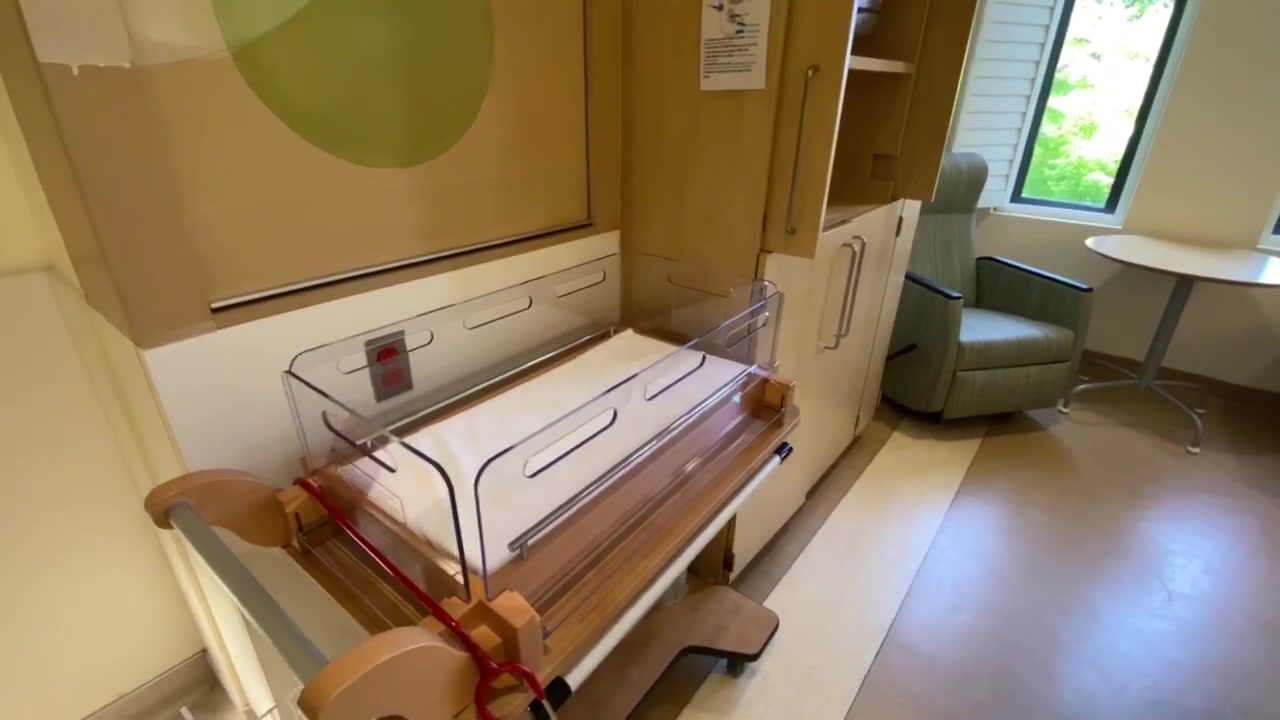handle: (785, 65, 816, 235), (821, 233, 856, 350), (833, 234, 867, 340)
sofa: (881, 151, 1092, 425)
table: (1057, 231, 1280, 455)
